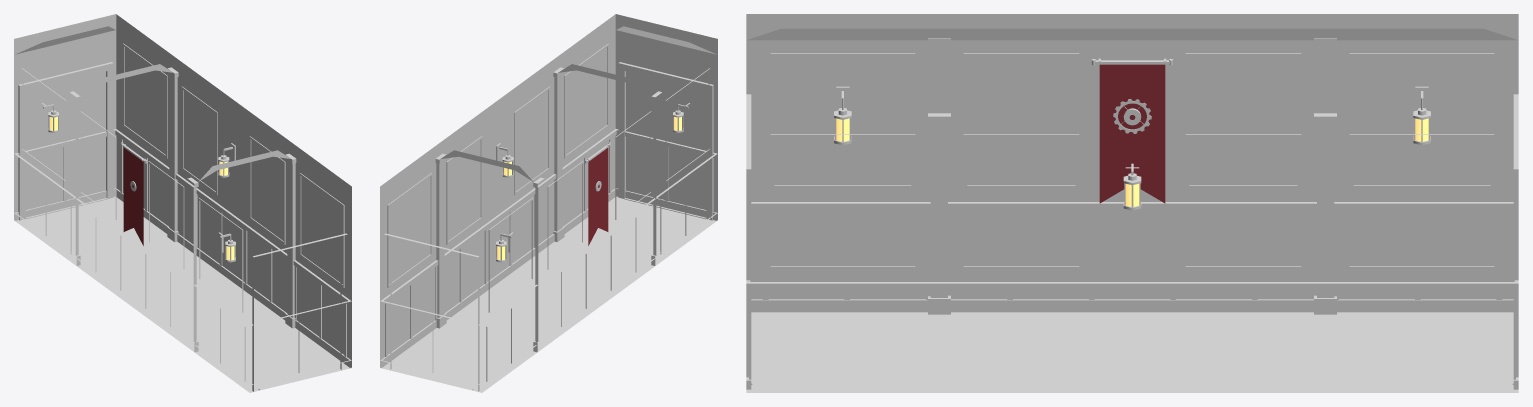
The model's file is corridor.glb.
3 views of the same model, side by side, from view 1: azimuth 30°, elevation 25°; view 2: azimuth 150°, elevation 25°; view 3: azimuth 270°, elevation 25° (orthographic). The views are drawn at different scales.
Parts seen in each view (by area): view 1: corridor, door-plug-n, door-frame-n, door-frame-s, door-plug-s; view 2: corridor, door-plug-s, door-frame-s, door-frame-n, door-plug-n; view 3: corridor, door-frame-n, door-frame-s.
Part boxes in pixels (<box>): corridor: <box>14,14,351,392</box>; door-plug-n: <box>25,71,106,217</box>; door-frame-n: <box>18,62,113,220</box>; door-frame-s: <box>252,233,347,391</box>; door-plug-s: <box>259,303,341,382</box>; corridor: <box>380,14,717,392</box>; door-plug-s: <box>625,71,706,217</box>; door-frame-s: <box>618,62,713,220</box>; door-frame-n: <box>384,233,479,391</box>; door-plug-n: <box>390,303,472,382</box>; corridor: <box>746,14,1518,392</box>; door-frame-n: <box>1512,94,1518,389</box>; door-frame-s: <box>746,94,752,389</box>.
Bounding box in the file's own units: 2 × 3.4 × 8.
